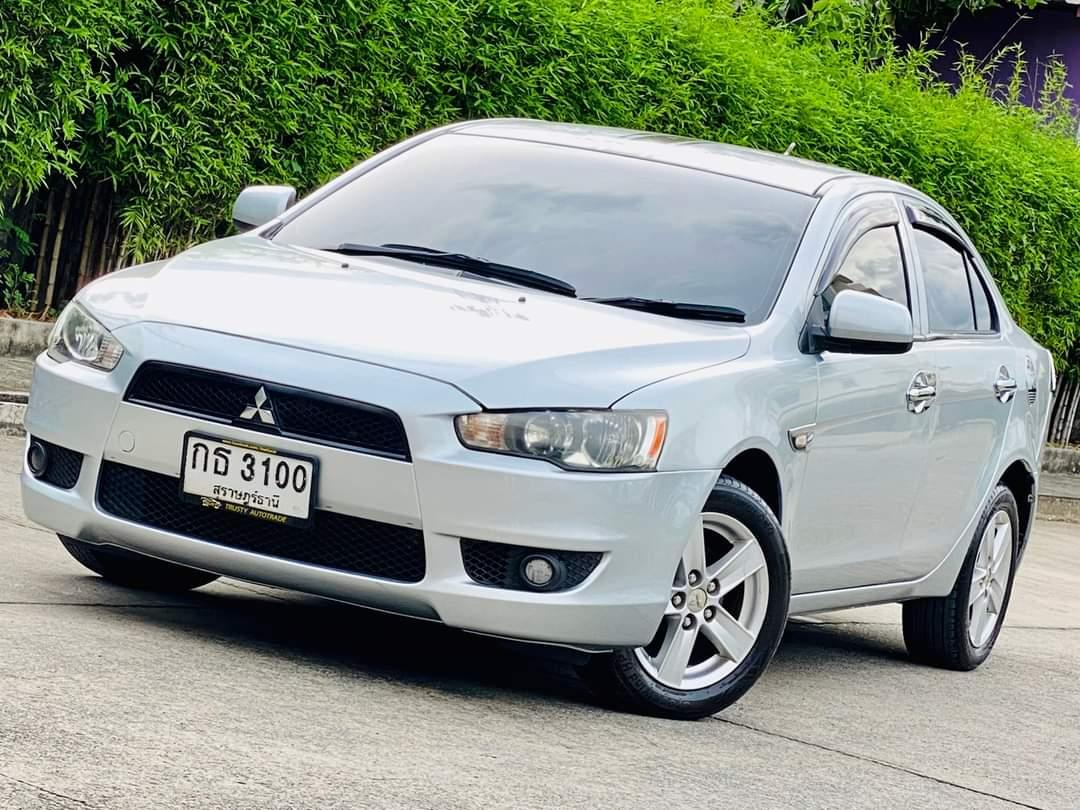license-plate: (176, 431, 326, 528)
